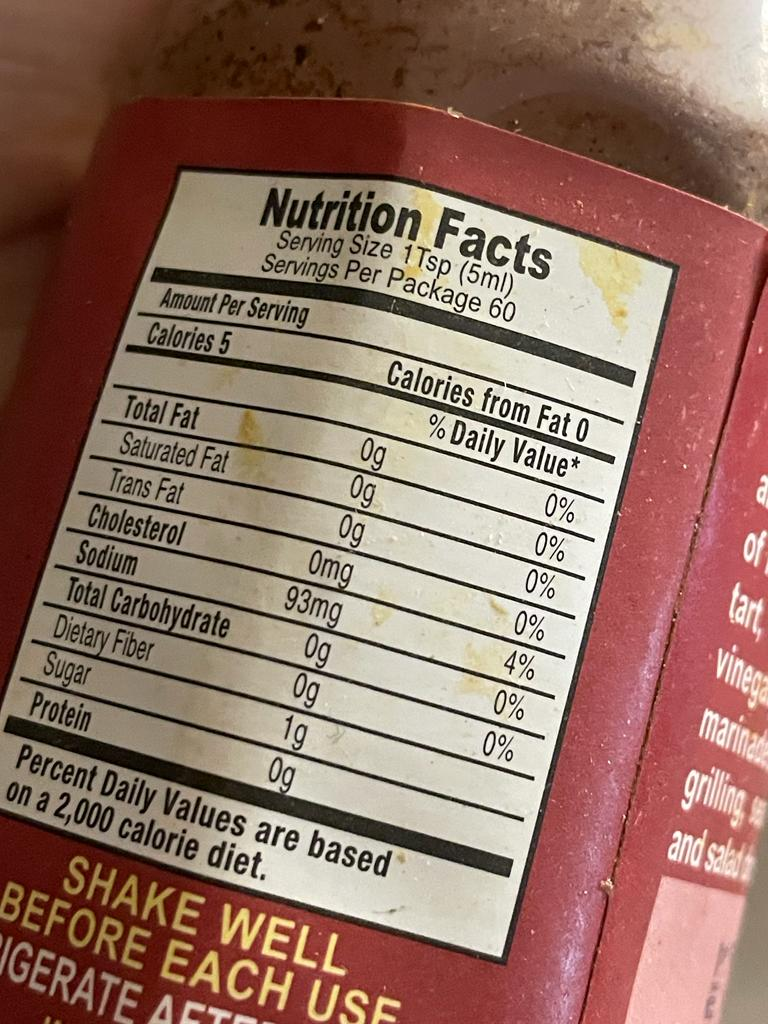table: (3, 150, 691, 982)
